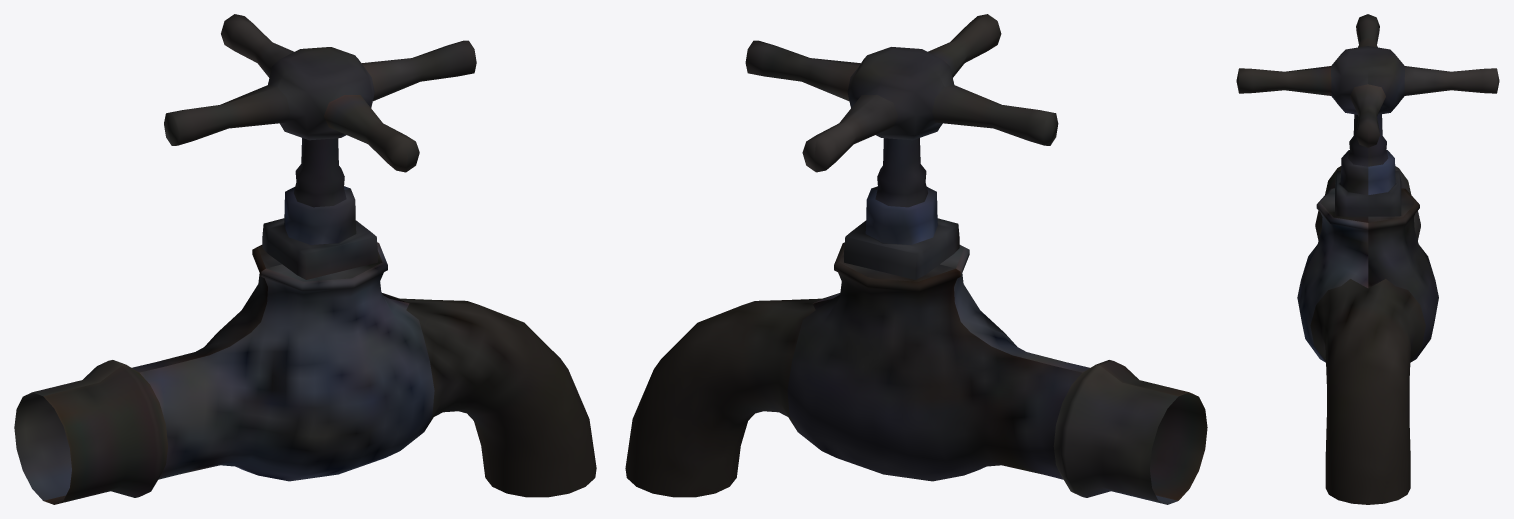
File: crane.fbx
3 views of the same model, side by side, from view 1: azimuth 30°, elevation 25°; view 2: azimuth 150°, elevation 25°; view 3: azimuth 270°, elevation 25° (orthographic). The views are drawn at different scales.
Visible parts, largest first — view 1: Strove.013; view 2: Strove.013; view 3: Strove.013.
Part boxes in pixels (<box>): Strove.013: <box>14,14,596,504</box>; Strove.013: <box>625,14,1207,504</box>; Strove.013: <box>1236,14,1499,504</box>.
Size of the model in its own units: 20.6 by 16.8 by 11.41.
1 material, 1 textured.
